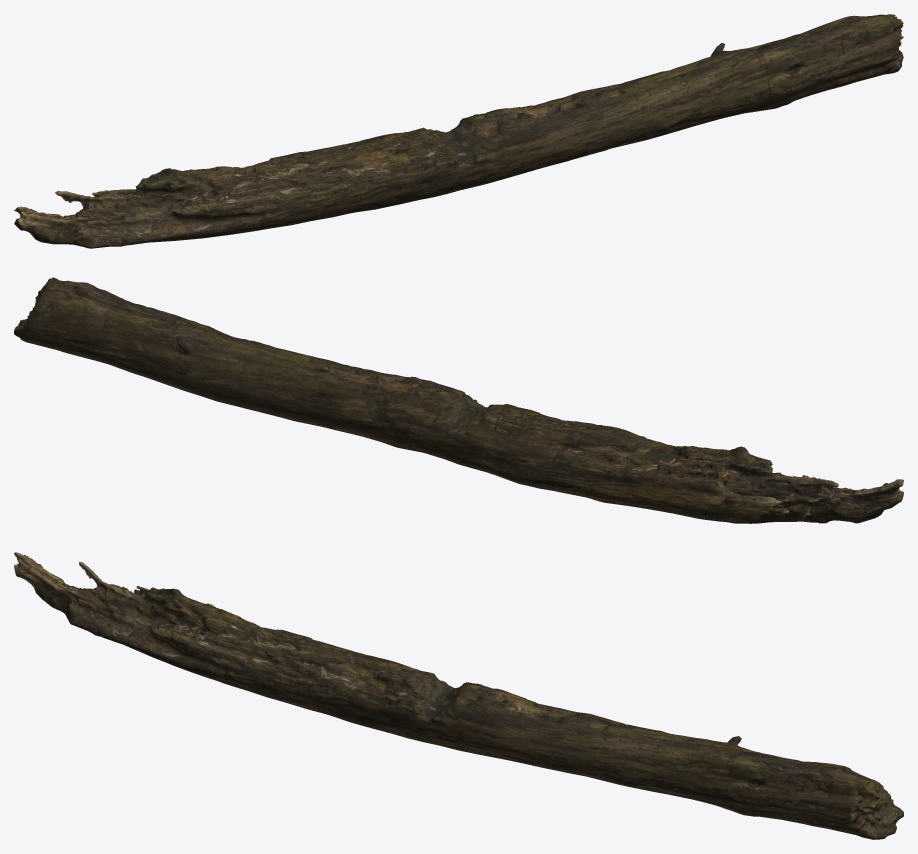
Rendered from village-floor-dead_tree_trunk.glb.
3 views of the same model, one above another, from view 1: azimuth 30°, elevation 25°; view 2: azimuth 150°, elevation 25°; view 3: azimuth 330°, elevation 25° (orthographic).
Visible parts, largest first — view 1: dead_tree_trunk; view 2: dead_tree_trunk; view 3: dead_tree_trunk.
Part boxes in pixels (left/top/right/bottom): dead_tree_trunk: left=14, top=14, right=903, bottom=248; dead_tree_trunk: left=14, top=277, right=903, bottom=523; dead_tree_trunk: left=14, top=552, right=903, bottom=839.
Bounding box in the file's own units: 3.05 × 0.2905 × 0.2775.
Materials: 1 (1 with a texture image).
